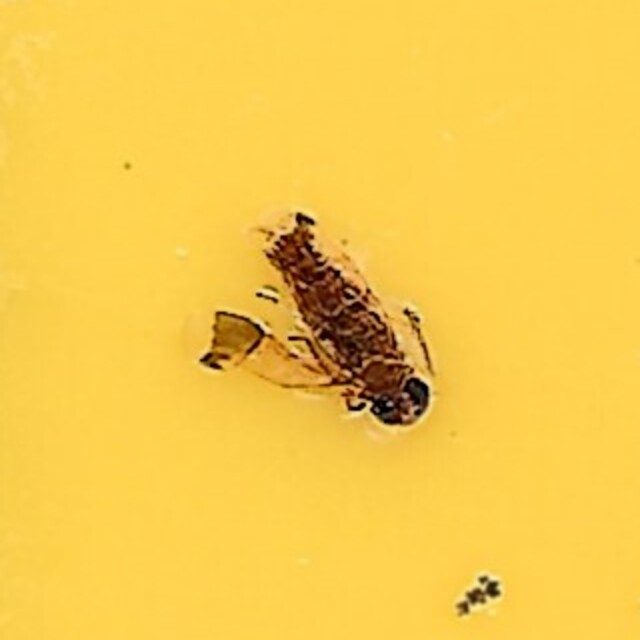Hemiptera: (200, 206, 440, 434)
